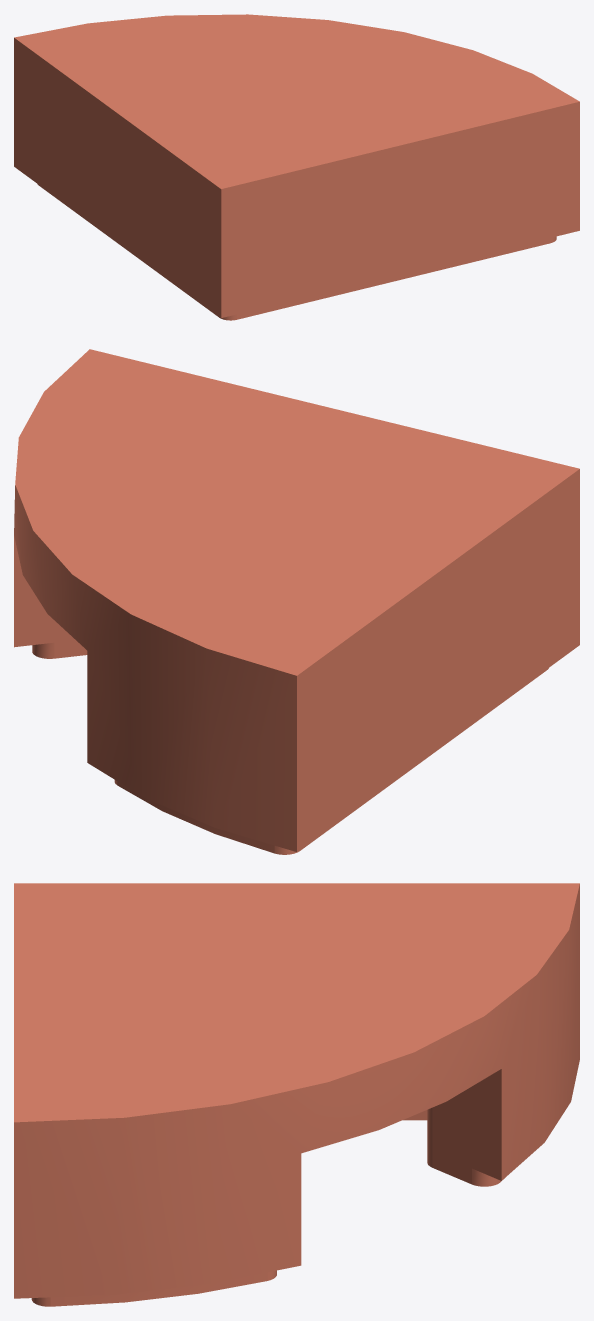
3 renders of one model, top to bottom at view 1: azimuth 30°, elevation 25°; view 2: azimuth 150°, elevation 25°; view 3: azimuth 270°, elevation 25°, orthographic. The views are drawn at different scales.
Parts seen in each view (by area): view 1: [pivoted]; view 2: [pivoted]; view 3: [pivoted].
Boxes of the visible parts, <box> form: [pivoted]: <box>14,14,579,320</box>; [pivoted]: <box>14,349,579,854</box>; [pivoted]: <box>14,883,579,1306</box>.
Size of the model in its own units: 0.8 by 0.3 by 0.8.
